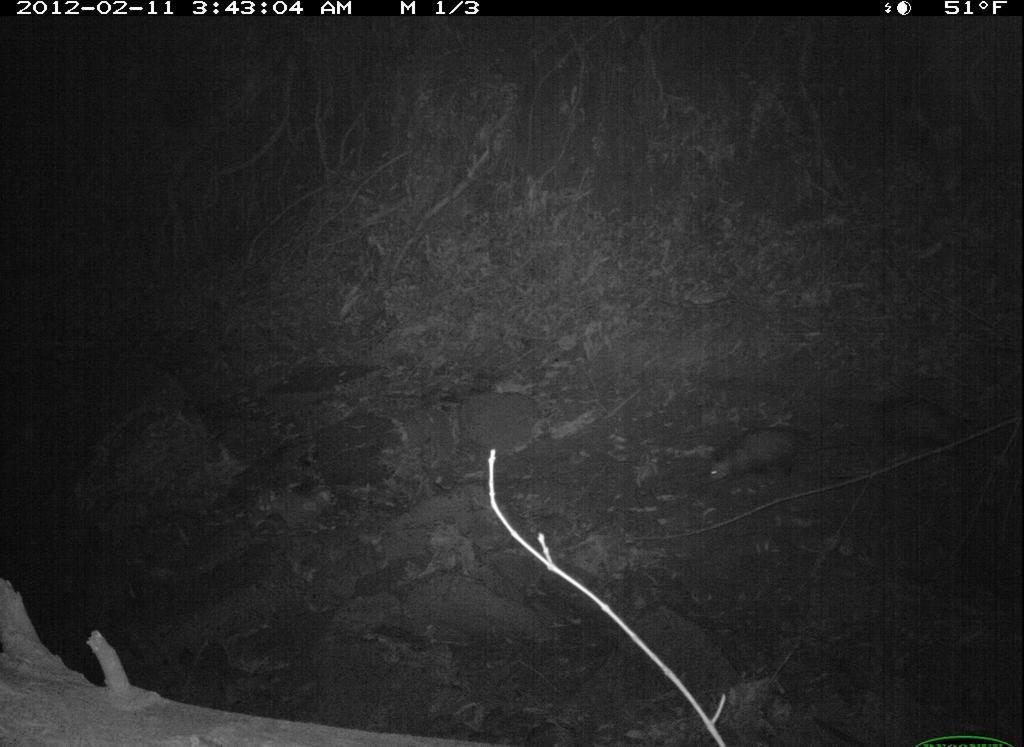opossum: (701, 410, 834, 489), (863, 386, 981, 469)
